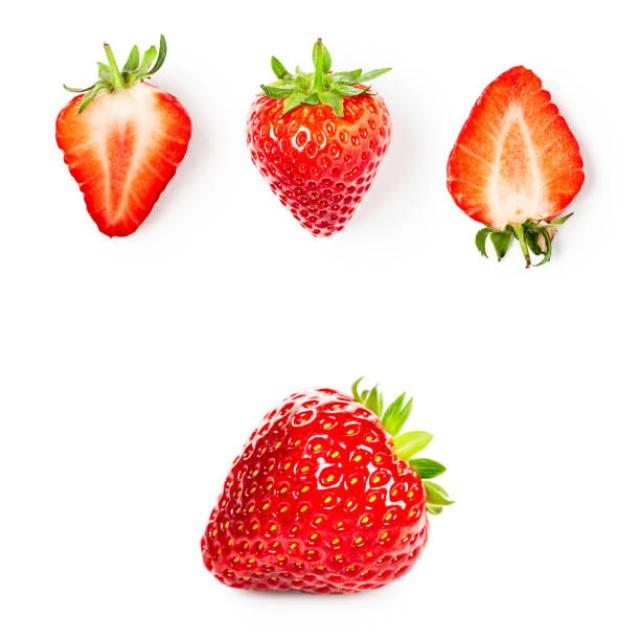Healthy Fruit: (197, 383, 430, 597), (248, 73, 389, 236), (444, 63, 581, 227), (56, 82, 192, 238)
